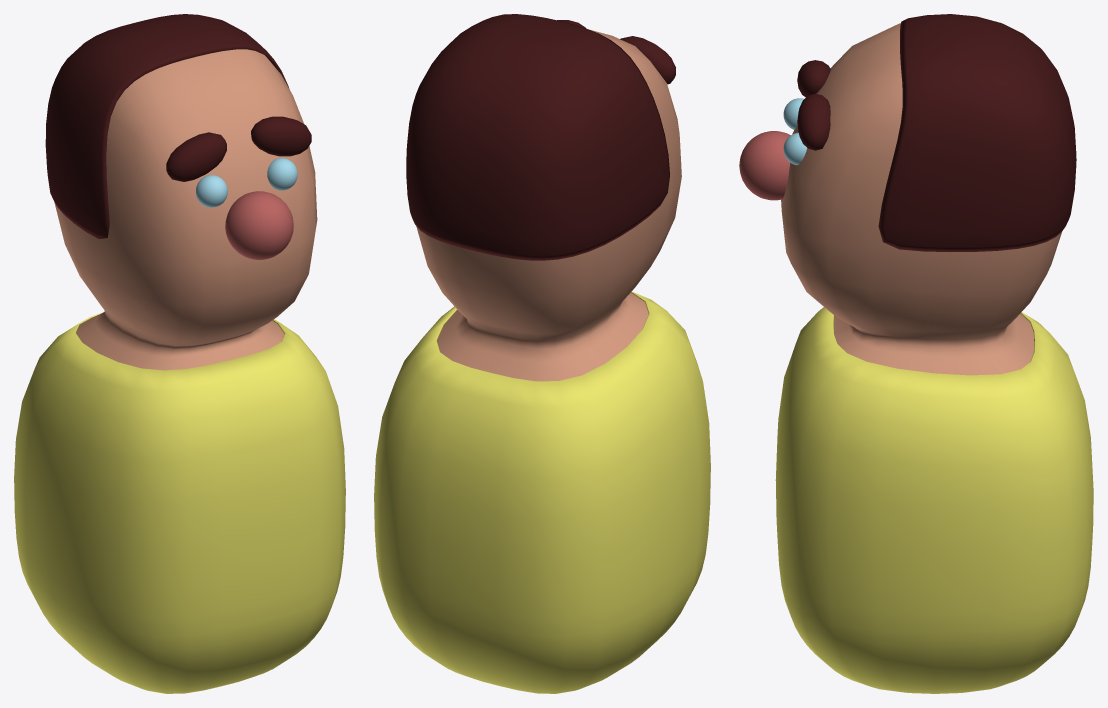
The model's file is KID.fbx.
3 renders of one model, left to right at view 1: azimuth 30°, elevation 25°; view 2: azimuth 150°, elevation 25°; view 3: azimuth 270°, elevation 25°, orthographic.
Visible parts, largest first — view 1: Cube, Cube.001, Cube.004; view 2: Cube, Cube.001; view 3: Cube, Cube.004, Cube.001.
Boxes of the visible parts, <box> form: Cube: <box>14,14,345,693</box>; Cube.001: <box>166,132,226,181</box>; Cube.004: <box>251,116,311,156</box>; Cube: <box>374,14,710,693</box>; Cube.001: <box>620,36,675,84</box>; Cube: <box>739,14,1093,693</box>; Cube.004: <box>797,93,830,150</box>; Cube.001: <box>797,60,830,97</box>.
Bounding box in the file's own units: 192 × 448 × 223.
